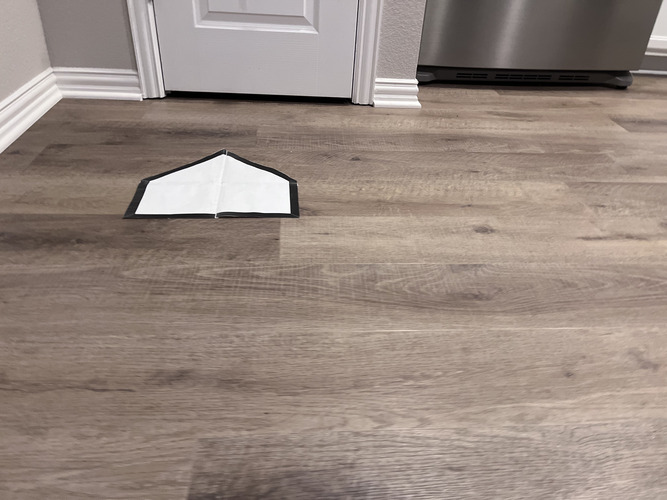homeplate: (122, 149, 300, 220)
